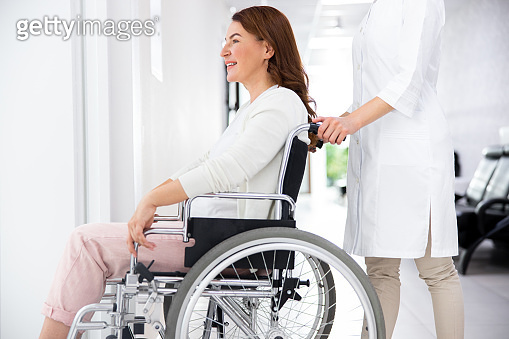wheelchair: (37, 5, 387, 339)
